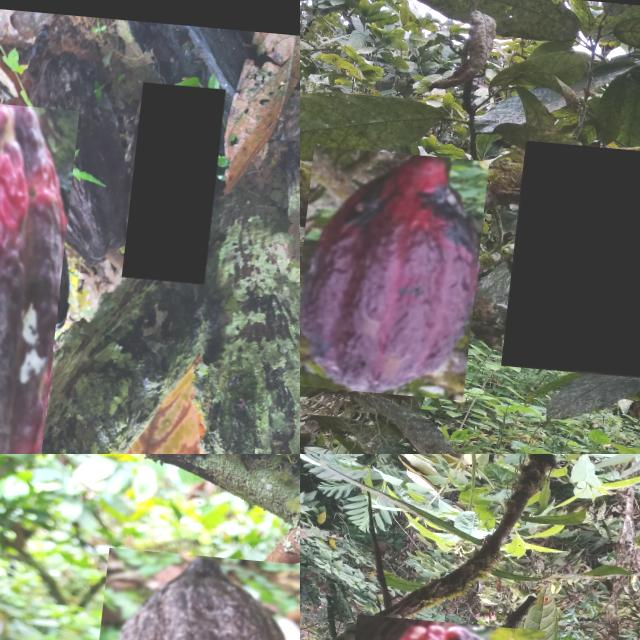Fitoftora: (300, 143, 493, 394), (509, 134, 640, 377), (80, 544, 300, 640)
Monilia: (0, 91, 81, 454), (128, 74, 227, 274)
